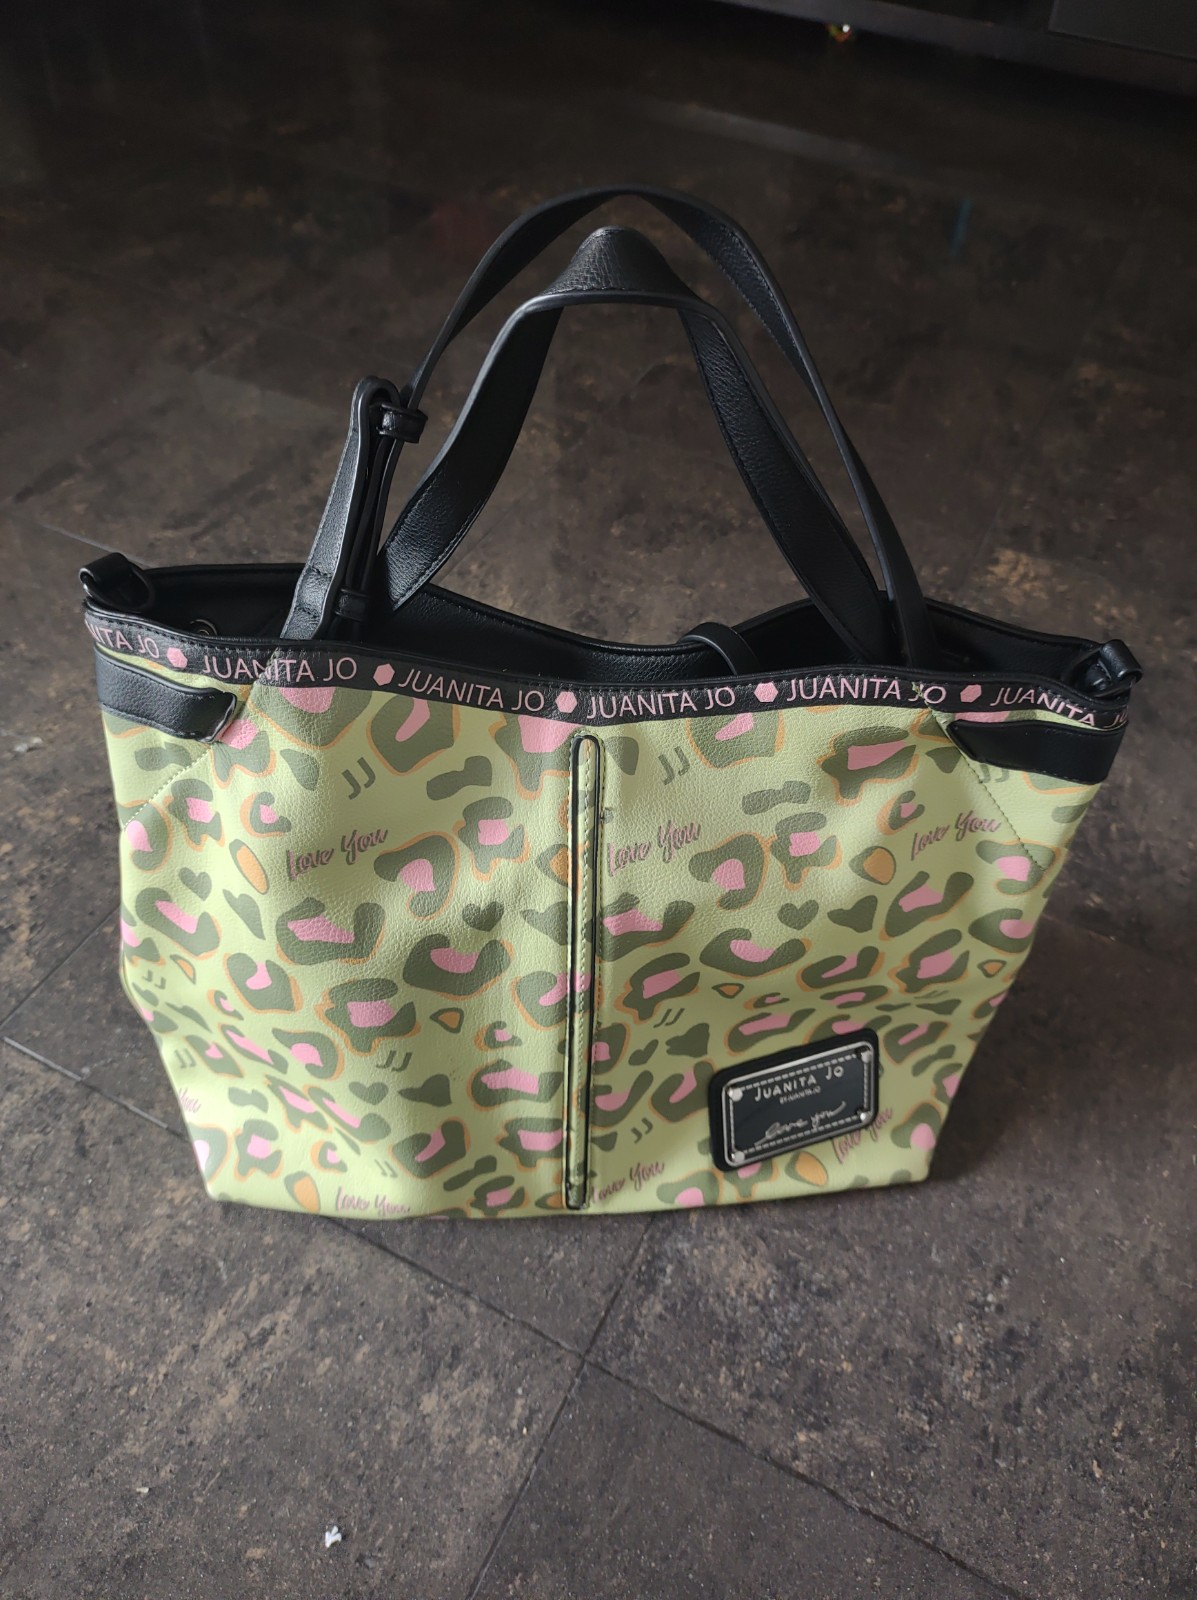cartera: (70, 175, 1145, 1220)
cuero: (85, 605, 1132, 1202)
